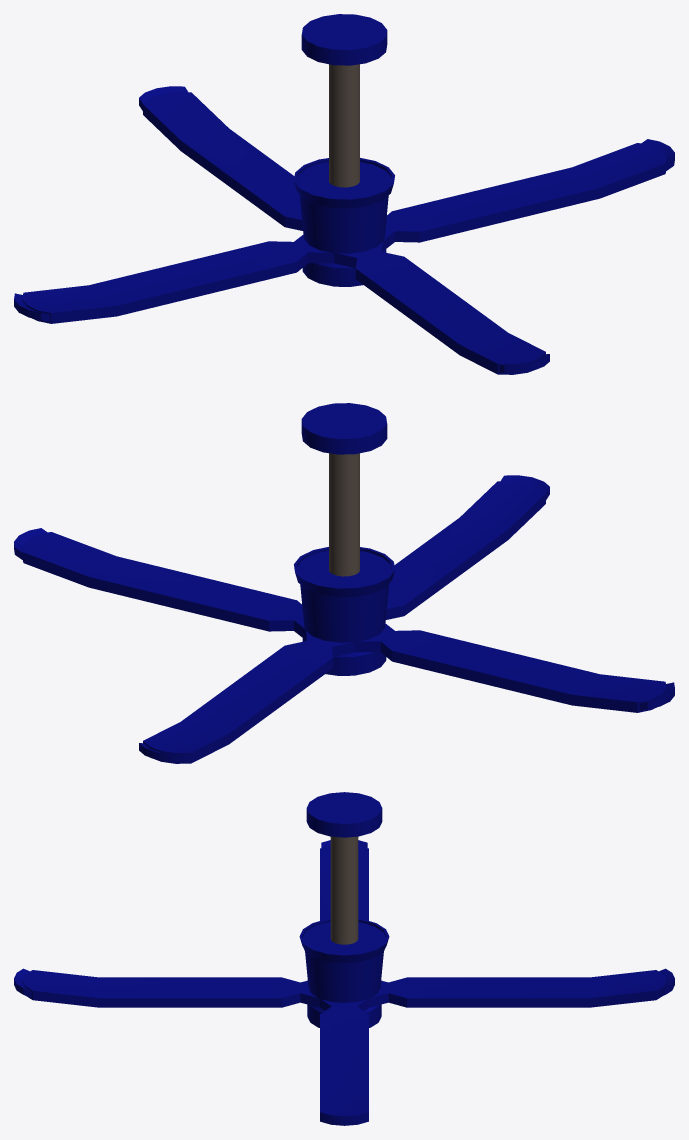
The model's file is fan10.glb.
3 views of the same model, one above another, from view 1: azimuth 30°, elevation 25°; view 2: azimuth 150°, elevation 25°; view 3: azimuth 270°, elevation 25° (orthographic). The views are drawn at different scales.
Visible parts, largest first — view 1: Fan10_Tris; view 2: Fan10_Tris; view 3: Fan10_Tris.
Part boxes in pixels (x1,y1,x2,y2): Fan10_Tris: (14, 14, 674, 374); Fan10_Tris: (14, 403, 674, 763); Fan10_Tris: (14, 792, 674, 1125).
Bounding box in the file's own units: 4.25 × 1.5 × 4.25.
